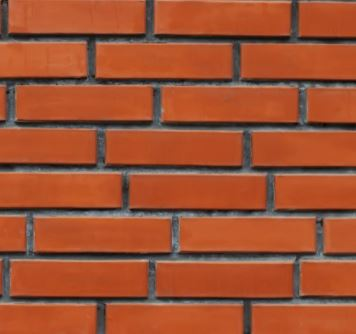brick: (126, 169, 270, 211), (159, 83, 302, 124), (102, 128, 245, 169), (93, 41, 237, 81), (14, 84, 154, 125), (31, 215, 174, 255), (176, 215, 316, 255), (8, 258, 150, 297), (153, 260, 295, 298), (1, 170, 125, 211), (240, 40, 356, 81), (152, 1, 293, 34), (105, 301, 246, 334), (250, 128, 356, 171), (15, 1, 147, 35), (1, 128, 97, 165), (250, 302, 356, 333), (2, 301, 100, 334), (1, 43, 90, 79), (273, 174, 356, 212), (298, 260, 356, 298), (297, 1, 356, 38), (305, 85, 356, 122), (322, 215, 356, 254), (1, 212, 31, 254)
